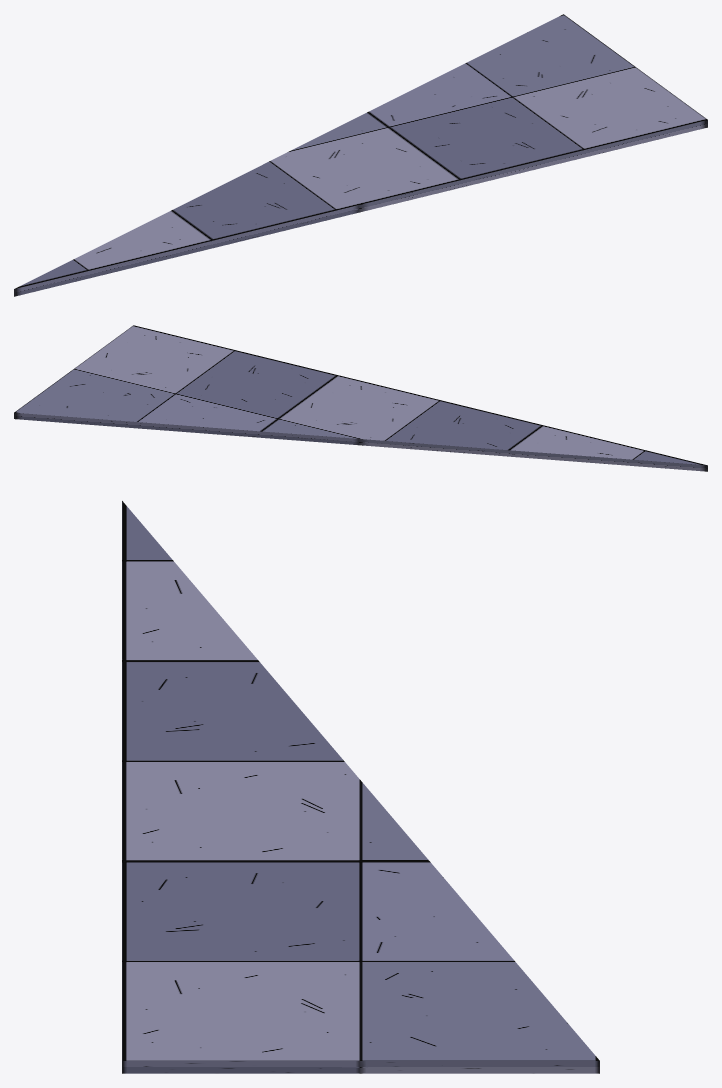
The model's file is pizza_piece.fbx.
The picture shows the model from 3 angles, top to bottom: view 1: azimuth 30°, elevation 25°; view 2: azimuth 150°, elevation 25°; view 3: azimuth 270°, elevation 25°; orthographic projection. The views are drawn at different scales.
Visible parts, largest first — view 1: Box002; view 2: Box002; view 3: Box002.
Boxes of the visible parts, x1,y1,x2,y2 form: Box002: [14, 14, 707, 296]; Box002: [14, 325, 707, 471]; Box002: [122, 501, 599, 1073].
Bounding box in the file's own units: 24.92 × 0.2625 × 8.98.
